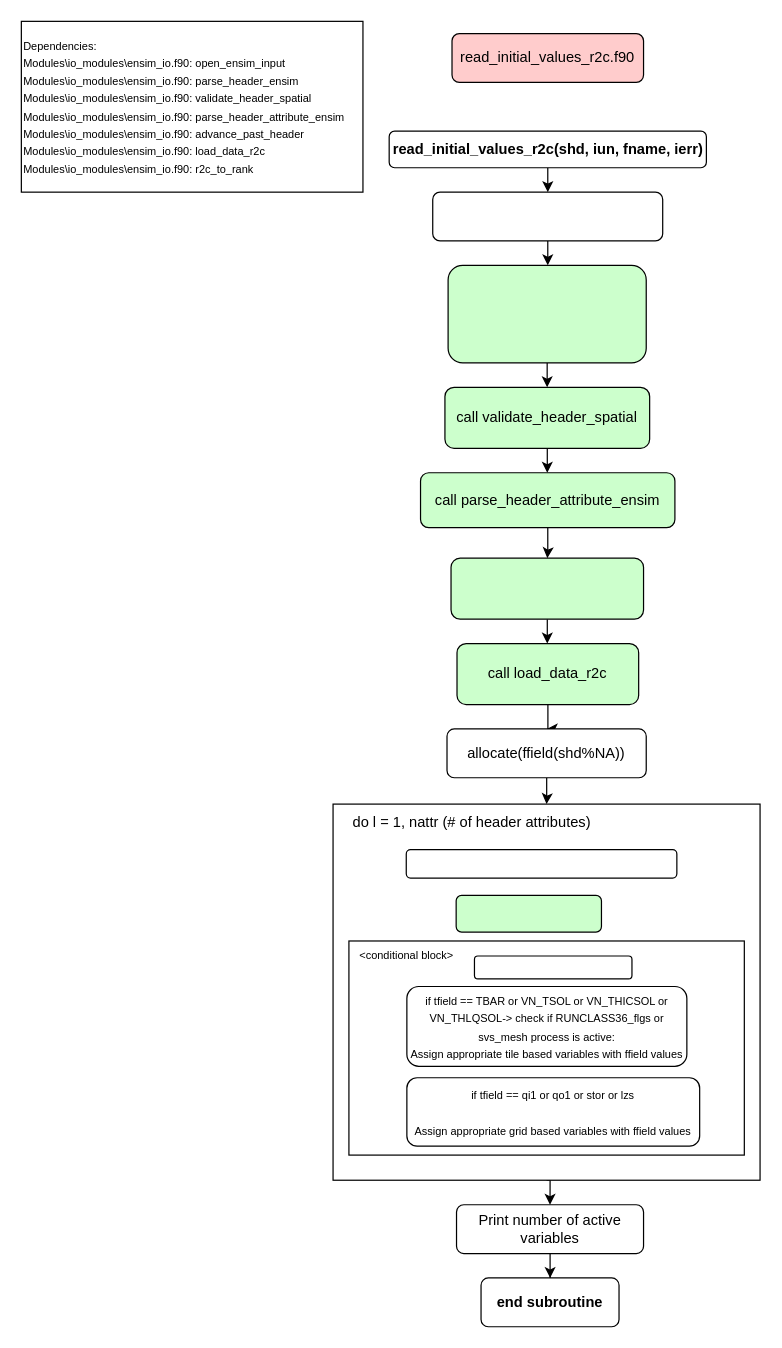
This 782x1348 diagram has some shape labels left out. The box of each missing label's shape, as (x1, y1, x2, y2) in pixels:
>! Reads fname call open_ensim_input call parse_header_ensim: (447, 264, 646, 363)
call advance_past_header: (450, 557, 644, 619)
call r2c_to_rank: (455, 894, 601, 932)
Determine the variable: (473, 955, 632, 979)
Reads tfield = lowercase(vattr(l)%attr): (405, 849, 677, 878)
Variables declaration and initialization: (432, 191, 663, 241)
